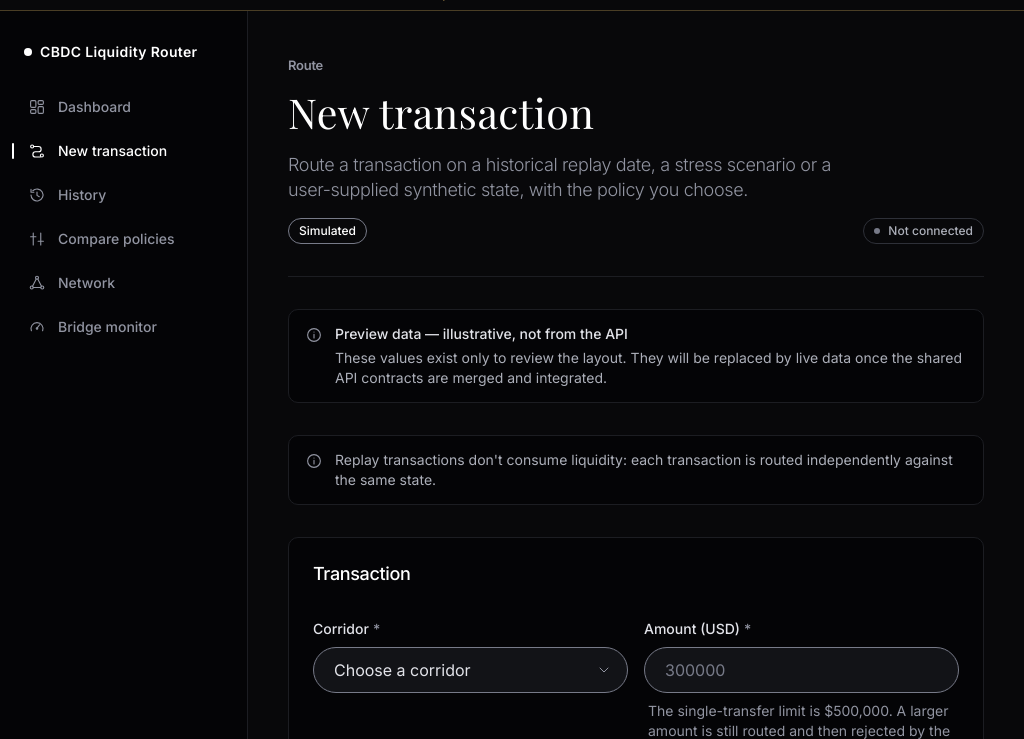
validation › requires a scenario in scenario mode
Select "GBR → PHL" in the dropdown labelled "Corridor" at x=470, y=670, box [313,647,628,693]
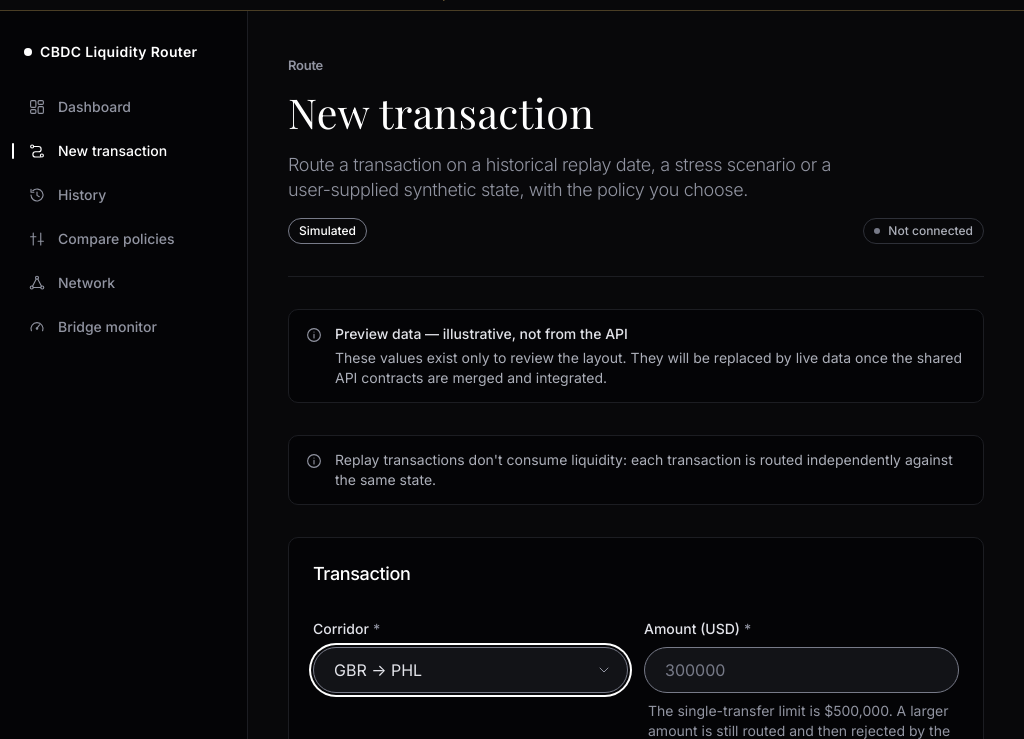
Type "100000" into the field labelled "Amount (USD)" at x=802, y=670, box [644,647,959,693]
(page scrolled)
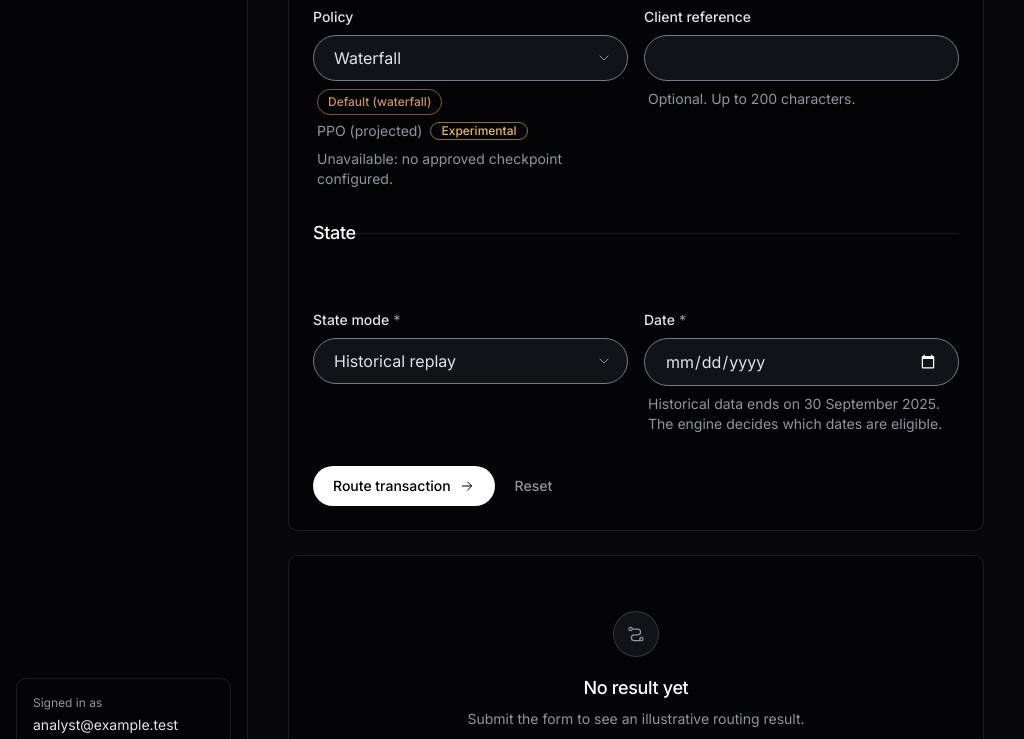
Type "2024-06-14" into the date field labelled "Date*" at x=802, y=362, box [644,338,959,386]
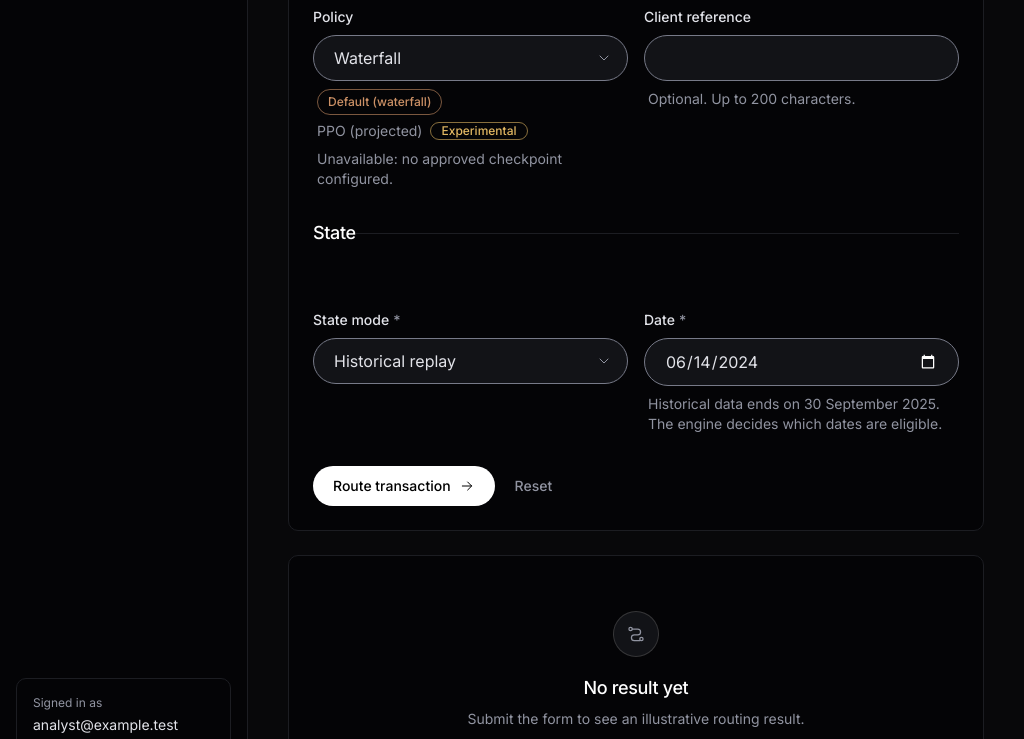
Select "Scenario" in the dropdown labelled "State mode" at x=470, y=361, box [313,338,628,384]
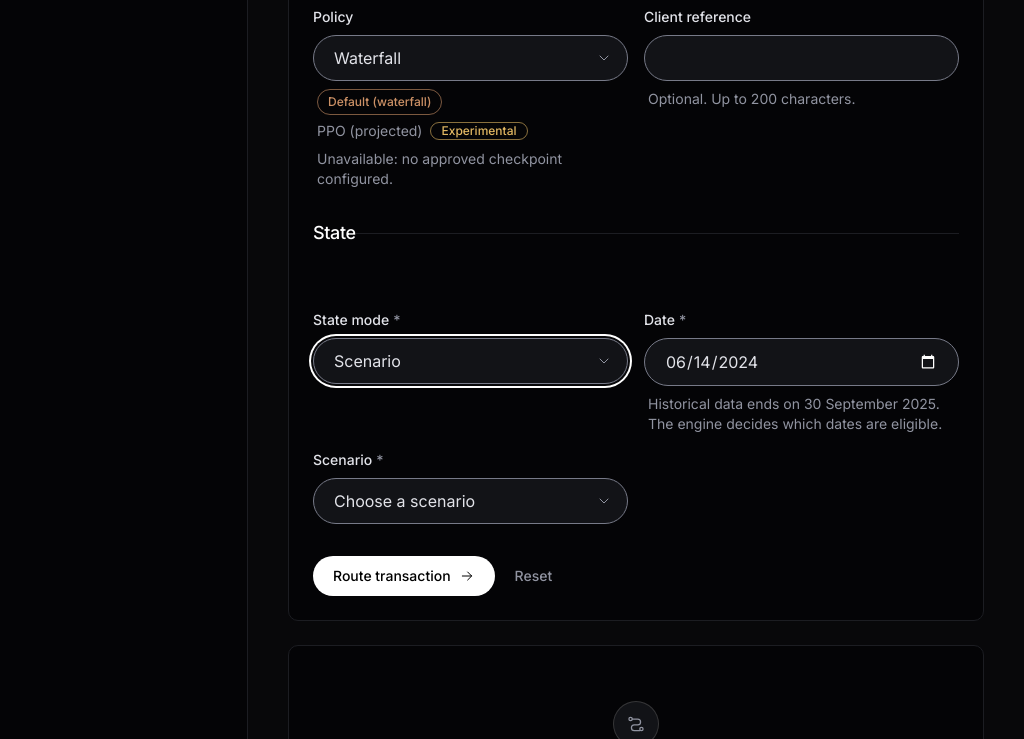
Click the button "Route transaction" at x=404, y=576, box [313,556,495,596]
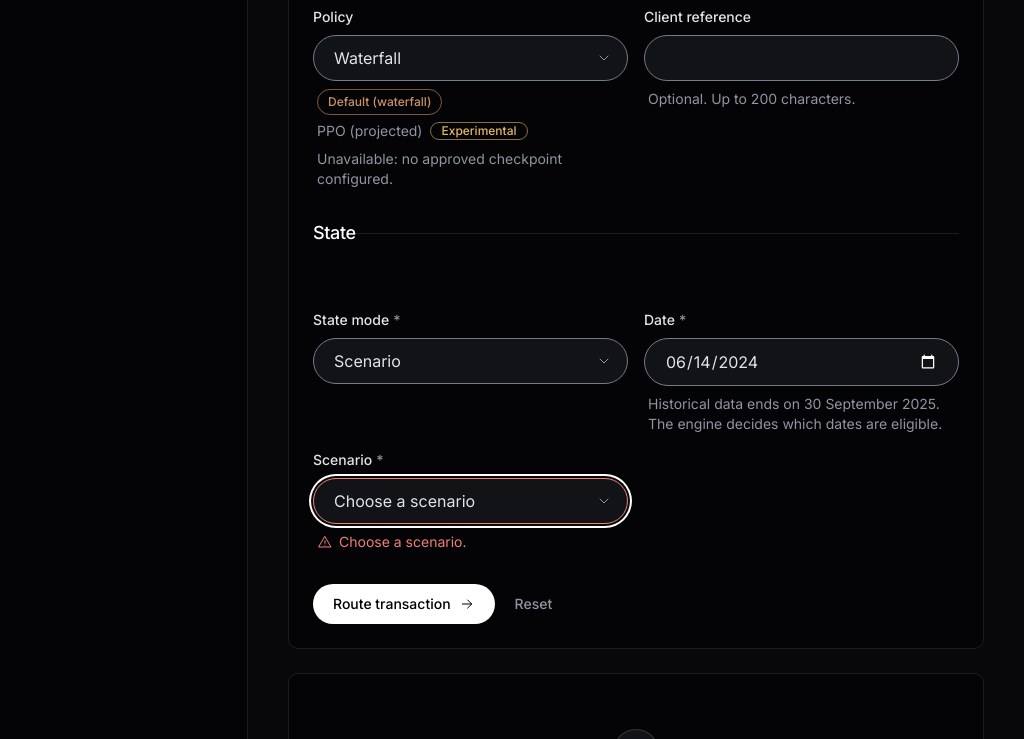
Check: the text "Choose a scenario." is shown, box [339,532,466,552]
